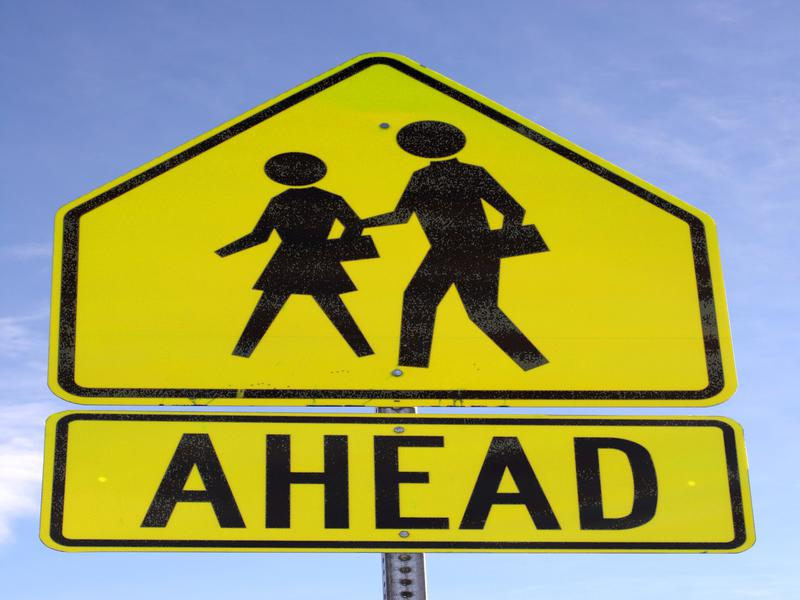slow: (40, 44, 741, 410)
